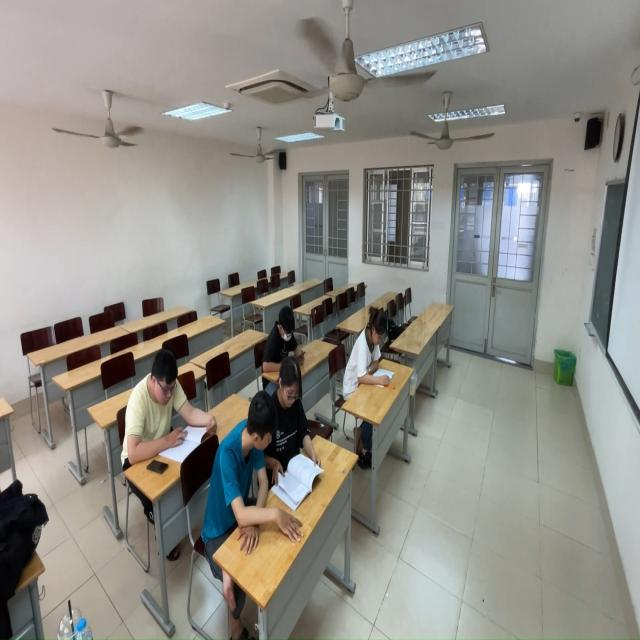read: (201, 392, 281, 560), (121, 350, 219, 463), (268, 355, 331, 490), (341, 306, 394, 408), (263, 302, 309, 365)
